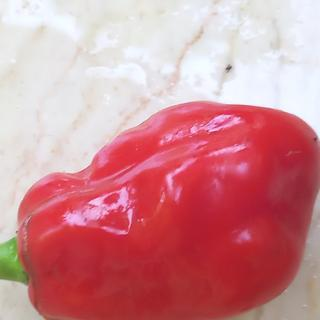striped: (15, 201, 37, 281)
